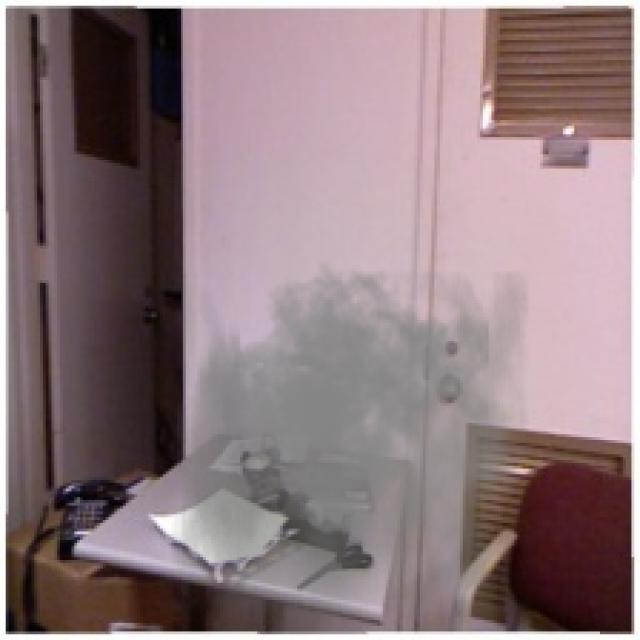smoke: (172, 260, 528, 631)
